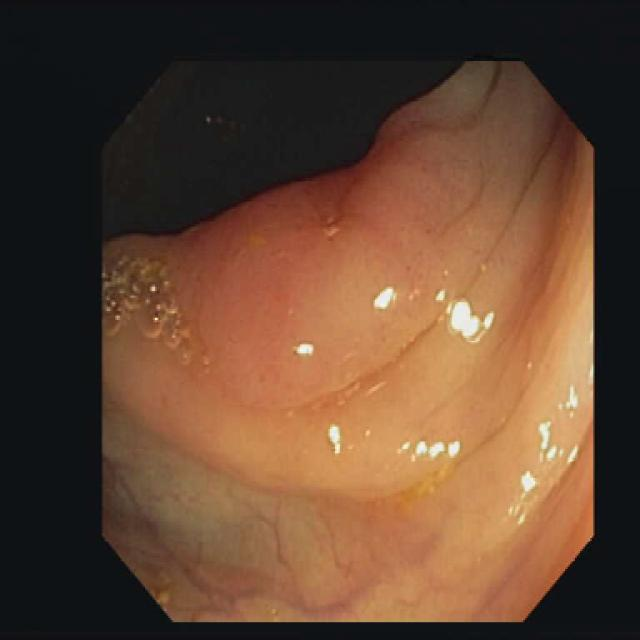tumor: (103, 62, 505, 398)
